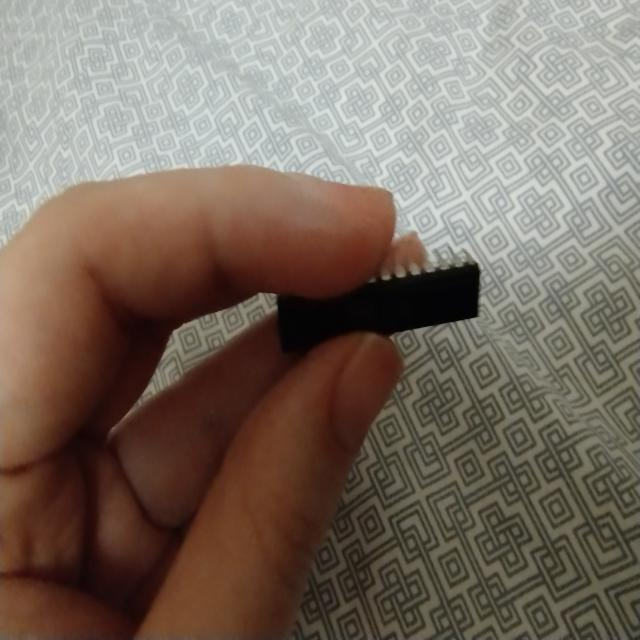atmega: (269, 243, 489, 342)
